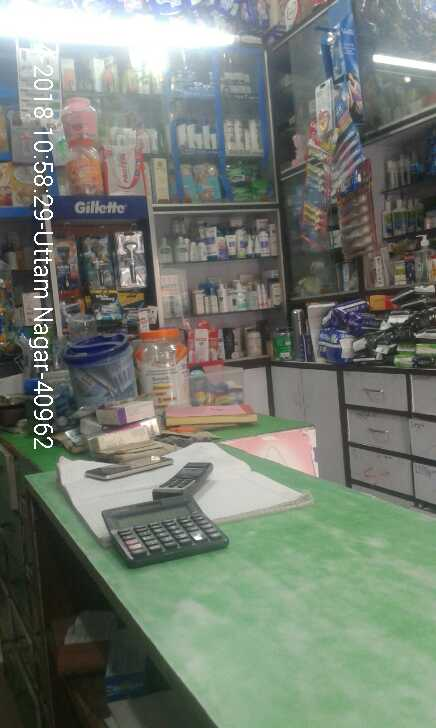oralcare: (295, 85, 337, 239), (339, 194, 382, 254), (344, 127, 363, 186)
